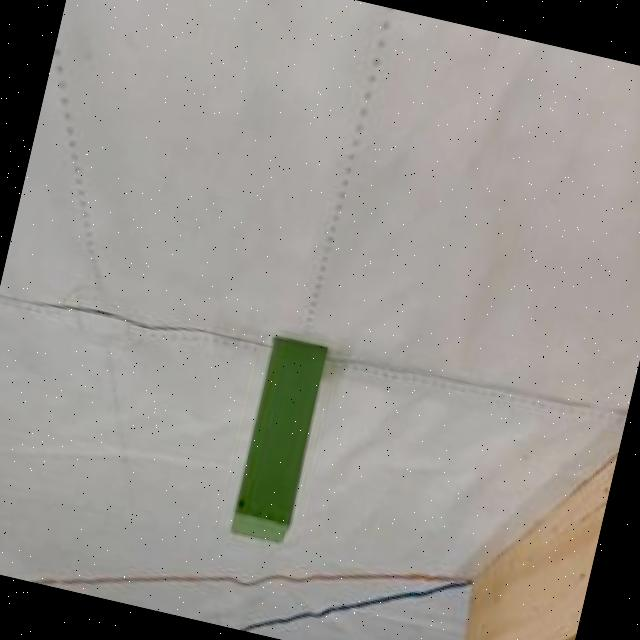greenbox: (226, 335, 332, 548)
